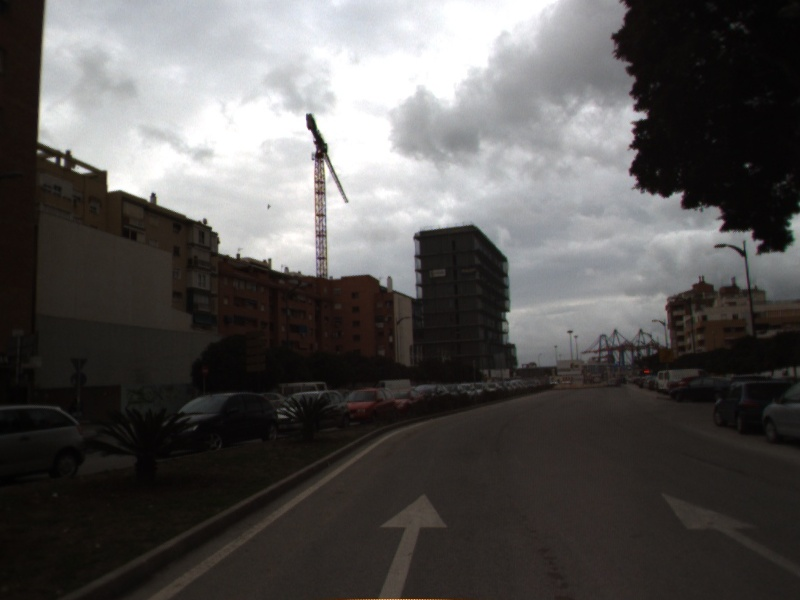STRAIGHT: (657, 488, 800, 578), (373, 489, 451, 600)
